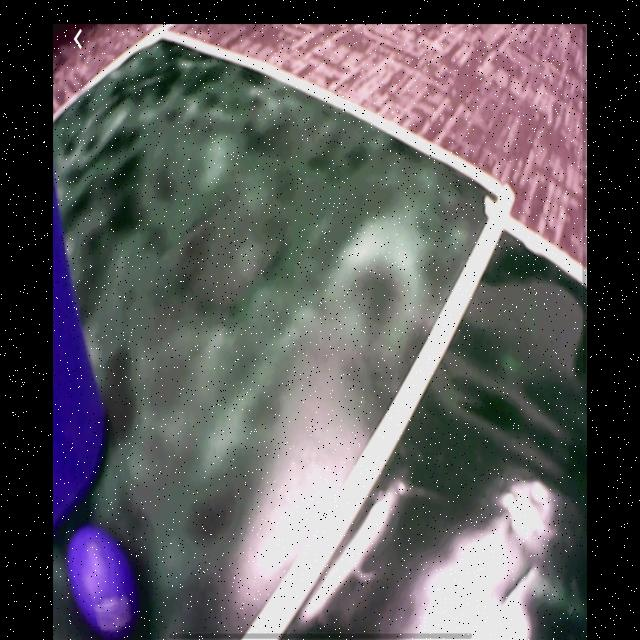ball: (67, 527, 135, 636)
